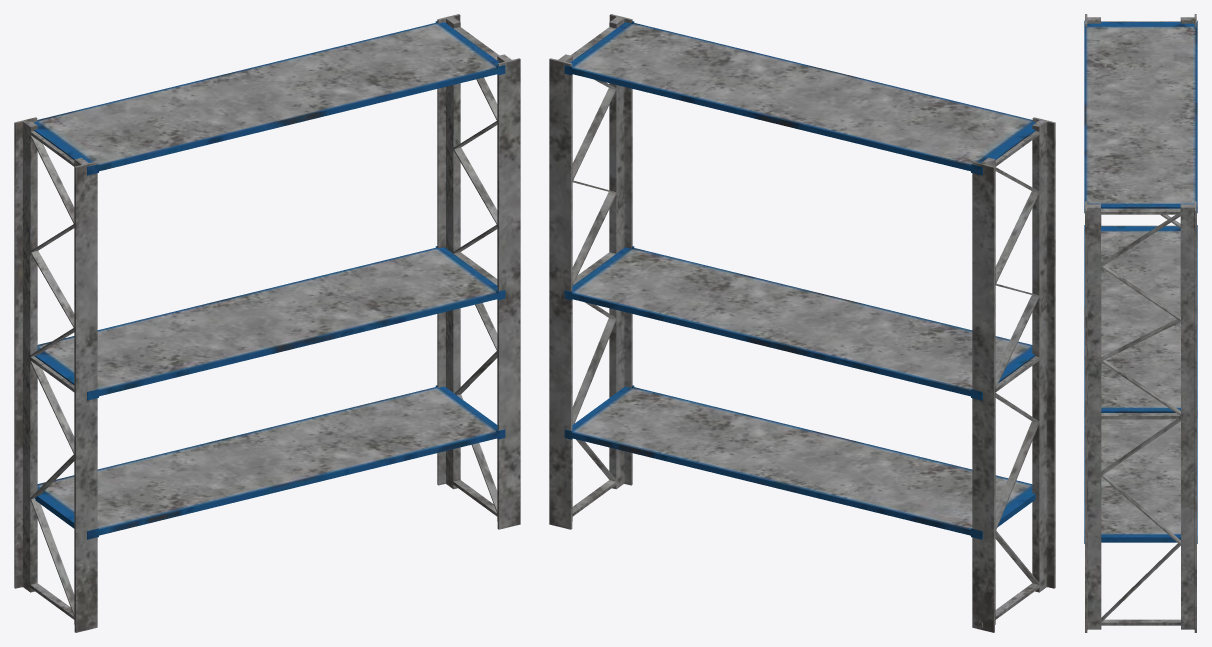
The model's file is pallet-rack.glb.
The picture shows the model from 3 angles, left to right: view 1: azimuth 30°, elevation 25°; view 2: azimuth 150°, elevation 25°; view 3: azimuth 270°, elevation 25°; orthographic projection. The views are drawn at different scales.
Parts seen in each view (by area): view 1: PalletRack; view 2: PalletRack; view 3: PalletRack.
Boxes of the visible parts, bbox=[...] form: PalletRack: bbox=[14, 14, 520, 632]; PalletRack: bbox=[549, 14, 1055, 632]; PalletRack: bbox=[1084, 14, 1197, 632].
Bounding box in the file's own units: 3 × 3 × 0.7293.
1 material, 1 textured.
